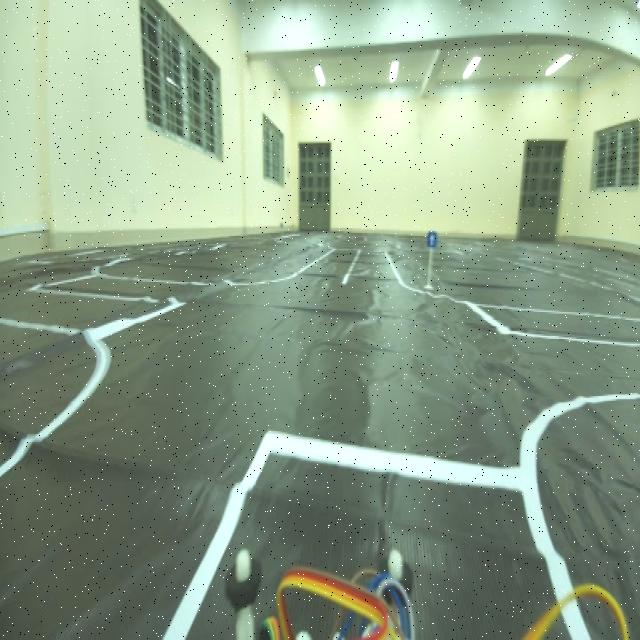onewayroad: (423, 225, 437, 252)
